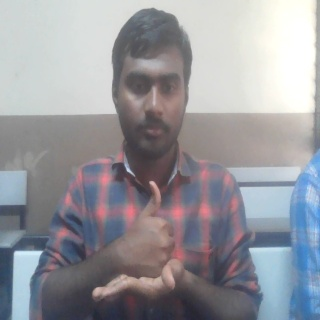Face: (108, 4, 194, 165)
Help: (91, 177, 191, 306)
